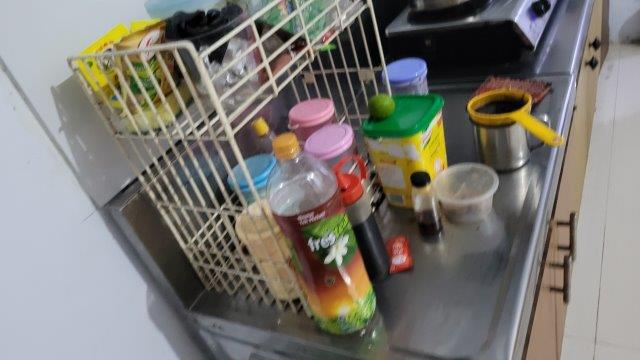botolplastik: (267, 132, 377, 338)
